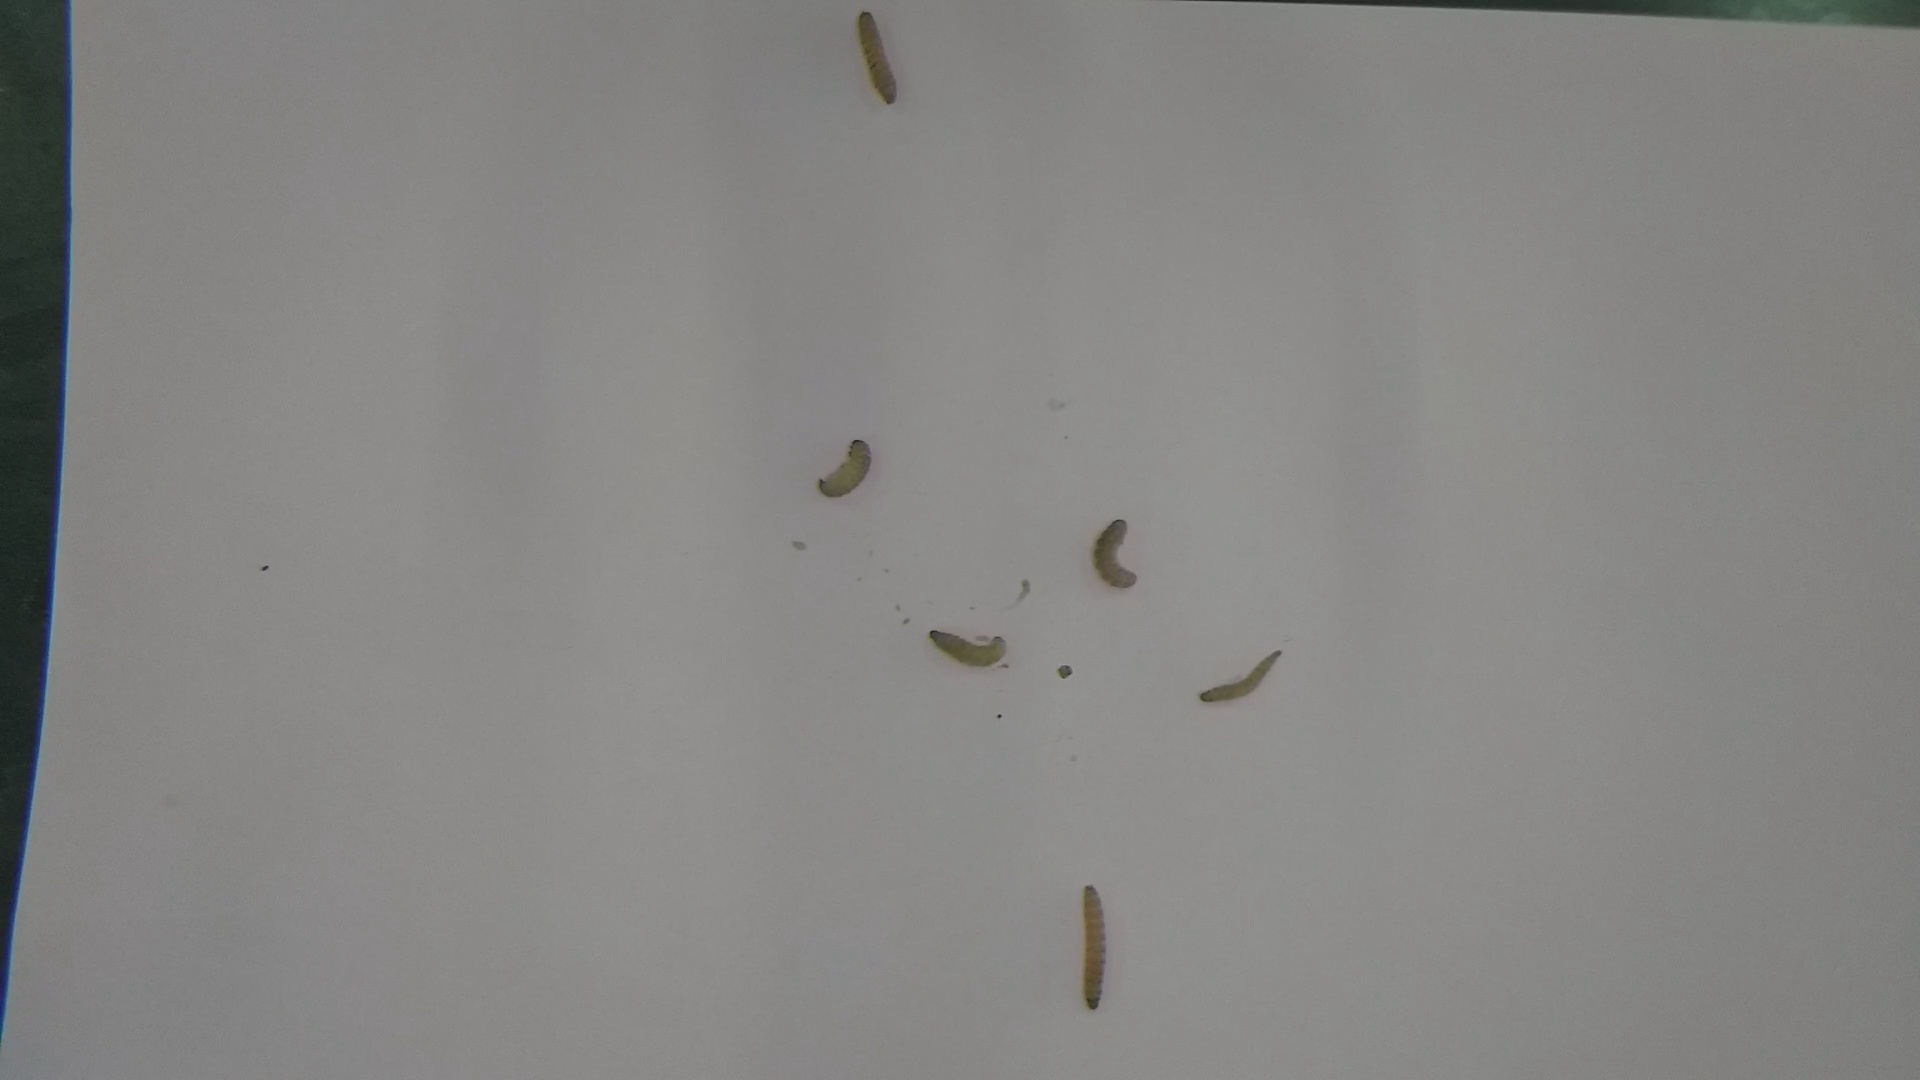efsb: (1191, 647, 1299, 707), (814, 429, 887, 510), (1077, 874, 1116, 1025), (1083, 509, 1146, 596), (852, 7, 905, 109), (920, 621, 1011, 673)
